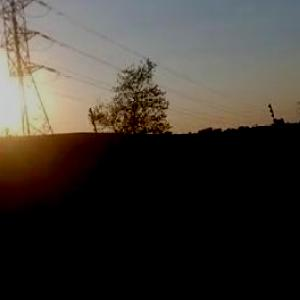follow: (136, 140, 209, 299)
